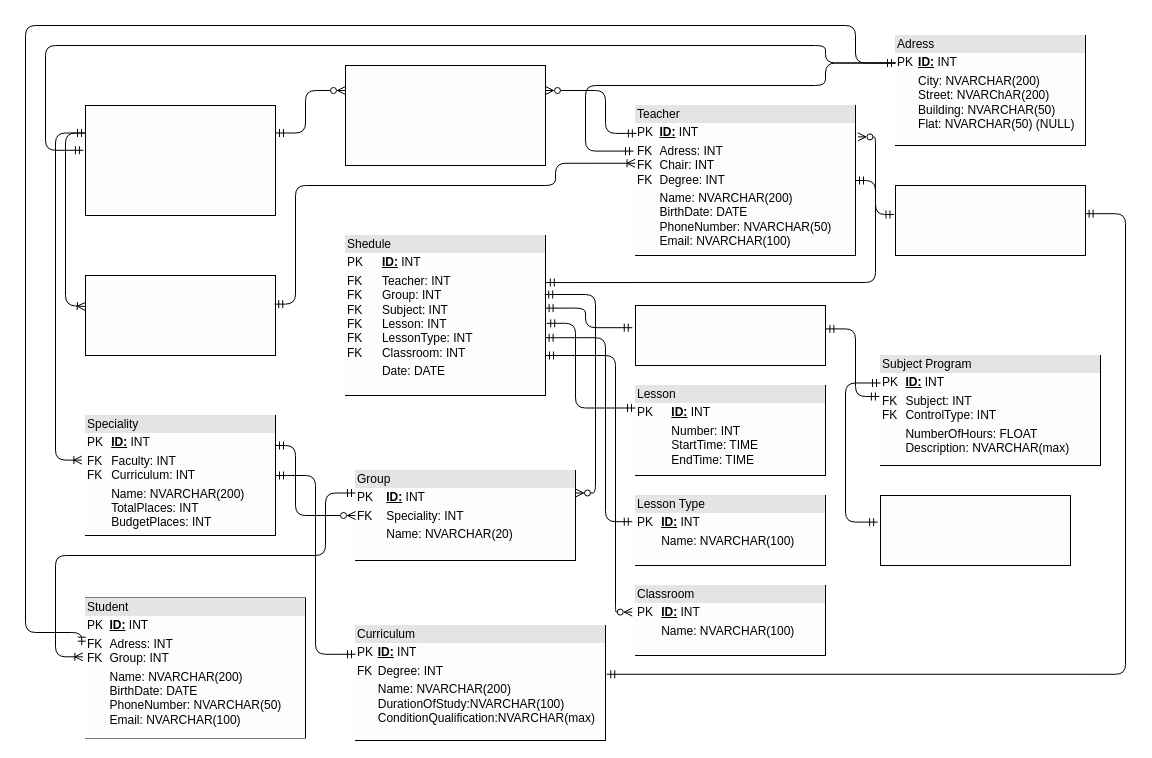
Image size: 1152x758. Some labels were removed from this diagram. The shapes that lost their labels are listed below. From the top down, each one's centre as x and y in pixels, then its label:
At (x=445, y=115): "Teacher Contract PK ID: INT FK FK Faculty: INT Teacher: INT Salary: MONEY".
At (x=180, y=160): "Faculty PK ID: INT FK Adress: INT Name: NVARCHAR(200) Dean: NVARCHAR(200)".
At (x=990, y=220): "Degree PK ID: INT Name: NVARCHAR(200)".
At (x=180, y=315): "Chair PK ID: INT FK Faculty: INT Name: NVARCHAR(200)".
At (x=730, y=335): "Subject PK ID: INT Name: NVARCHAR(200)".
At (x=975, y=530): "Control Type PK ID: INT Name: NVARCHAR(100)".
